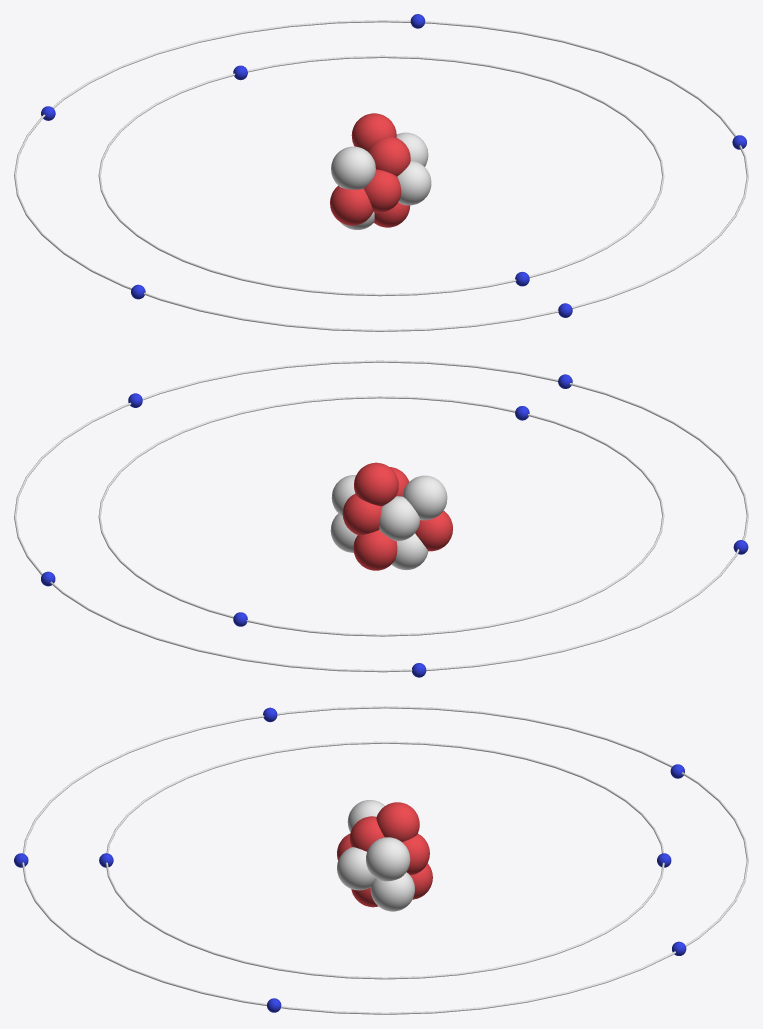
Rendered from Stickstoff.glb.
3 renders of one model, top to bottom at view 1: azimuth 30°, elevation 25°; view 2: azimuth 150°, elevation 25°; view 3: azimuth 270°, elevation 25°, orthographic.
Parts seen in each view (by area): view 1: L-Schale, K-Schale, Neutron 7, Proton 7, Proton 2, Proton 1, Neutron 4, Proton 6, Neutron 6, Proton 3; view 2: L-Schale, K-Schale, Proton 6, Neutron 7, Proton 4, Neutron 2, Proton 5, Proton 7, Neutron 3, Neutron 5, Neutron 6; view 3: L-Schale, K-Schale, Neutron 6, Proton 6, Neutron 5, Neutron 4, Proton 2, Proton 5, Neutron 7.
Boxes of the visible parts, left/top/right/bottom form: L-Schale: left=14, top=20, right=748, bottom=331; K-Schale: left=98, top=55, right=664, bottom=296; Neutron 7: left=331, top=146, right=375, bottom=189; Proton 7: left=330, top=185, right=373, bottom=225; Proton 2: left=367, top=136, right=410, bottom=176; Proton 1: left=364, top=169, right=401, bottom=212; Neutron 4: left=397, top=160, right=431, bottom=205; Proton 6: left=351, top=113, right=396, bottom=150; Neutron 6: left=396, top=132, right=428, bottom=166; Proton 3: left=374, top=202, right=410, bottom=227; L-Schale: left=14, top=360, right=748, bottom=672; K-Schale: left=98, top=396, right=664, bottom=636; Proton 6: left=354, top=462, right=398, bottom=506; Neutron 7: left=402, top=475, right=447, bottom=520; Proton 4: left=353, top=530, right=397, bottom=570; Neutron 2: left=379, top=496, right=420, bottom=541; Proton 5: left=342, top=493, right=382, bottom=535; Proton 7: left=415, top=510, right=452, bottom=551; Neutron 3: left=391, top=533, right=428, bottom=570; Neutron 5: left=330, top=513, right=357, bottom=552; Neutron 6: left=331, top=475, right=356, bottom=516; L-Schale: left=22, top=706, right=748, bottom=1014; K-Schale: left=105, top=741, right=664, bottom=979; Neutron 6: left=366, top=837, right=410, bottom=881; Proton 6: left=376, top=802, right=419, bottom=841; Neutron 5: left=370, top=872, right=414, bottom=911; Neutron 4: left=337, top=847, right=375, bottom=890; Proton 2: left=349, top=816, right=384, bottom=851; Proton 5: left=402, top=834, right=429, bottom=875; Neutron 7: left=347, top=800, right=384, bottom=832.
Bounding box in the file's own units: 13.04 × 2 × 13.18.
